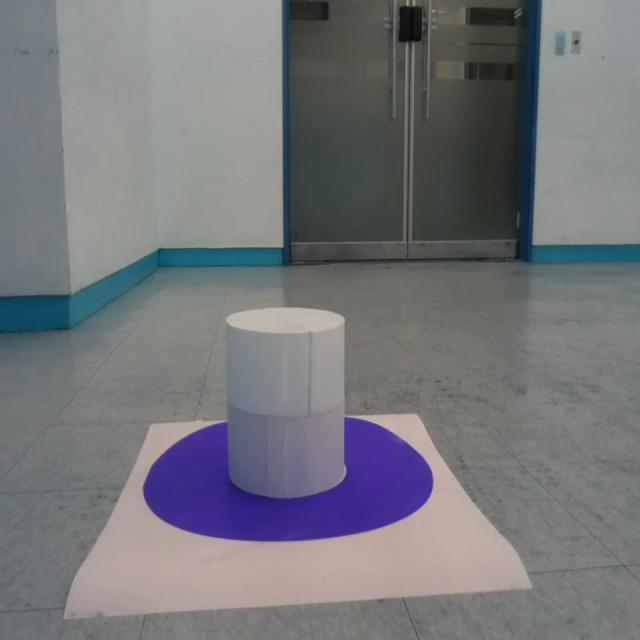cylinder: (225, 306, 348, 498)
